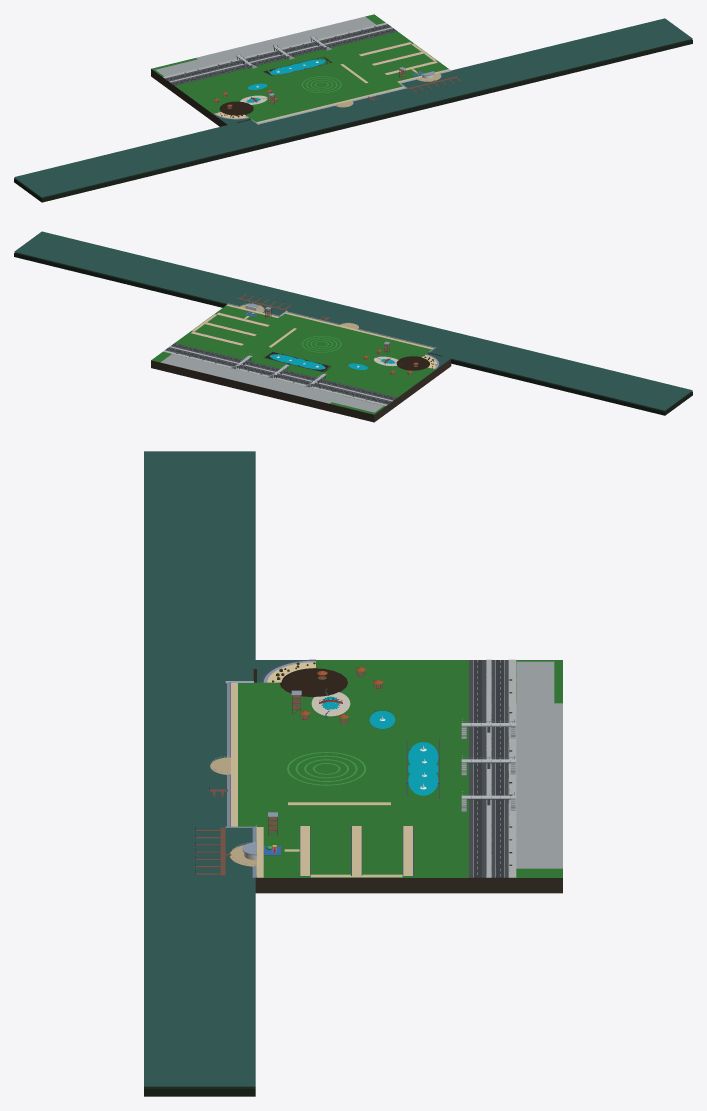
The model's file is island_diorama_base.glb.
The picture shows the model from 3 angles, top to bottom: view 1: azimuth 30°, elevation 25°; view 2: azimuth 150°, elevation 25°; view 3: azimuth 270°, elevation 25°; orthographic projection. The views are drawn at different scales.
Parts seen in each view (by area): view 1: SaigonRiverWater, GreatOvalLawn, ParkDetailsColored, BaseEarth, GranitePromenades, RockConeUnderbelly, LagoonReflectingWater, GardenSoilAndCrags, SeaWallRevetment, StoneCurbsAndCoping, MarinaFingerDocks; view 2: SaigonRiverWater, GreatOvalLawn, ParkDetailsColored, BaseEarth, RockConeUnderbelly, GranitePromenades, GardenSoilAndCrags, LagoonReflectingWater, StoneCurbsAndCoping, MarinaFingerDocks, SeaWallRevetment; view 3: SaigonRiverWater, GreatOvalLawn, ParkDetailsColored, RockConeUnderbelly, GranitePromenades, LagoonReflectingWater, GardenSoilAndCrags, MarinaFingerDocks, BaseEarth, SeaWallRevetment, StoneCurbsAndCoping.
Part boxes in pixels (<box>): SaigonRiverWater: <box>14,18,692,197</box>; GreatOvalLawn: <box>151,14,448,122</box>; ParkDetailsColored: <box>155,16,433,118</box>; BaseEarth: <box>14,39,692,202</box>; GranitePromenades: <box>256,42,449,123</box>; RockConeUnderbelly: <box>151,69,246,126</box>; LagoonReflectingWater: <box>246,59,325,102</box>; GardenSoilAndCrags: <box>219,57,332,122</box>; SeaWallRevetment: <box>214,67,451,124</box>; StoneCurbsAndCoping: <box>213,42,463,119</box>; MarinaFingerDocks: <box>214,68,462,108</box>; SaigonRiverWater: <box>14,231,692,410</box>; GreatOvalLawn: <box>151,305,435,414</box>; ParkDetailsColored: <box>160,305,436,412</box>; BaseEarth: <box>14,252,692,415</box>; RockConeUnderbelly: <box>151,355,451,422</box>; GranitePromenades: <box>191,304,433,349</box>; GardenSoilAndCrags: <box>264,352,441,371</box>; LagoonReflectingWater: <box>270,354,394,369</box>; StoneCurbsAndCoping: <box>190,293,439,372</box>; MarinaFingerDocks: <box>237,293,417,374</box>; SeaWallRevetment: <box>228,303,438,369</box>; SaigonRiverWater: <box>144,451,303,1086</box>; GreatOvalLawn: <box>238,660,562,877</box>; ParkDetailsColored: <box>244,659,562,877</box>; RockConeUnderbelly: <box>255,662,562,893</box>; GranitePromenades: <box>231,683,412,877</box>; LagoonReflectingWater: <box>322,696,438,795</box>; GardenSoilAndCrags: <box>253,668,440,783</box>; MarinaFingerDocks: <box>194,671,382,875</box>; BaseEarth: <box>144,1086,255,1096</box>; SeaWallRevetment: <box>225,660,315,877</box>; StoneCurbsAndCoping: <box>195,659,439,877</box>.
Size of the model in its own units: 700 by 26.55 by 195.
